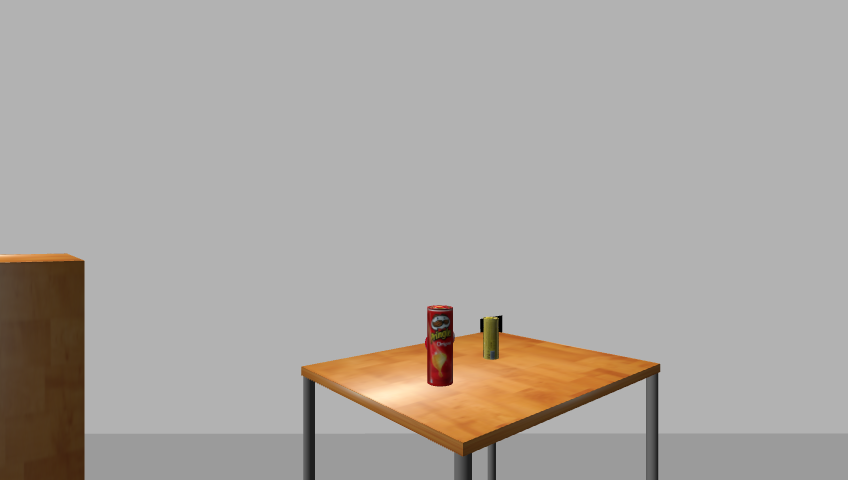aruco marker: (478, 316, 504, 339)
biscuits pack: (481, 316, 501, 360)
bookshelf: (0, 252, 93, 479)
dinner table: (292, 333, 668, 479)
pringles can: (425, 305, 456, 388)
